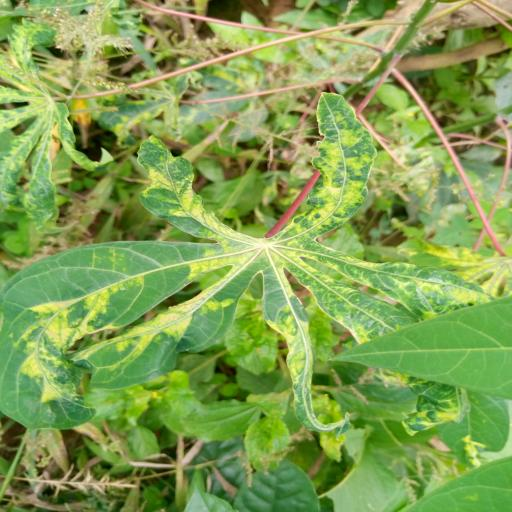Cassava_Mosaic: (0, 90, 512, 437)
